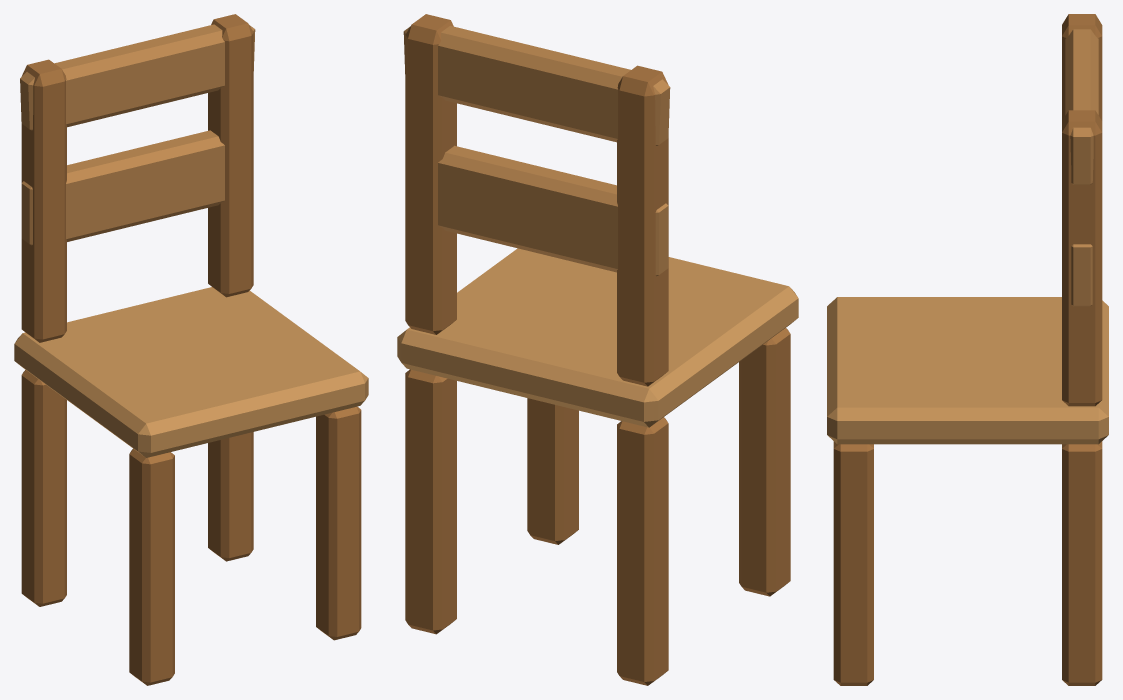
File: chair.glb
3 views of the same model, side by side, from view 1: azimuth 30°, elevation 25°; view 2: azimuth 150°, elevation 25°; view 3: azimuth 270°, elevation 25° (orthographic). The views are drawn at different scales.
Parts seen in each view (by area): view 1: chair; view 2: chair; view 3: chair.
Boxes of the visible parts, bbox=[...] form: chair: bbox=[14, 14, 368, 685]; chair: bbox=[397, 14, 798, 685]; chair: bbox=[827, 14, 1108, 685].
Size of the model in its own units: 0.42 by 0.928 by 0.42.
